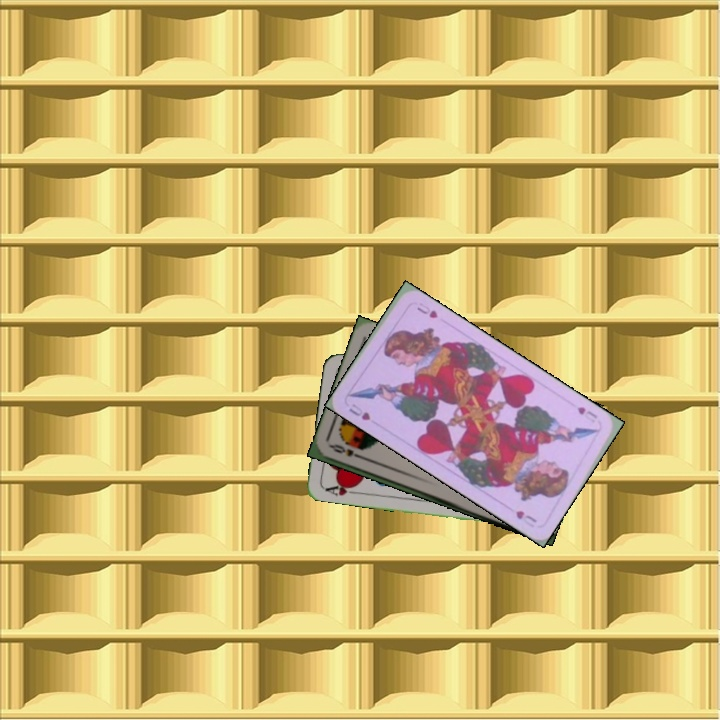HA: (321, 479, 361, 499)
HU: (344, 400, 373, 423), (573, 402, 600, 421)
SO: (327, 440, 366, 462)
